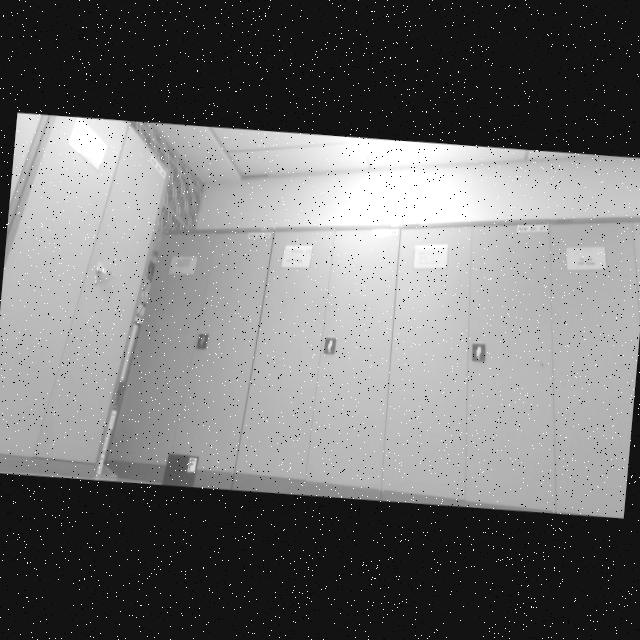F: (189, 460, 194, 470)
